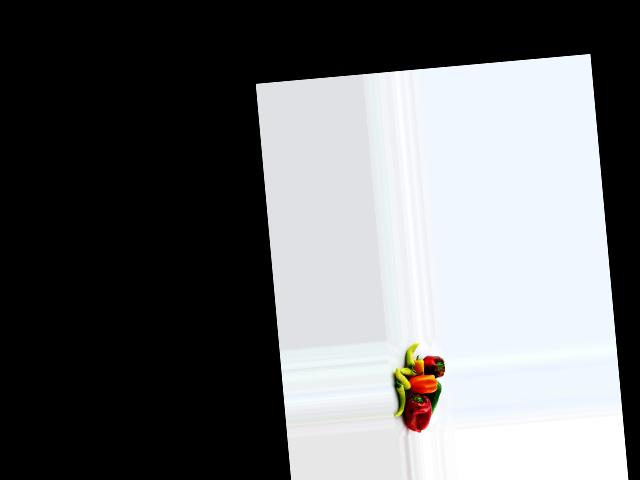bell_pepper: (391, 377, 407, 419)
